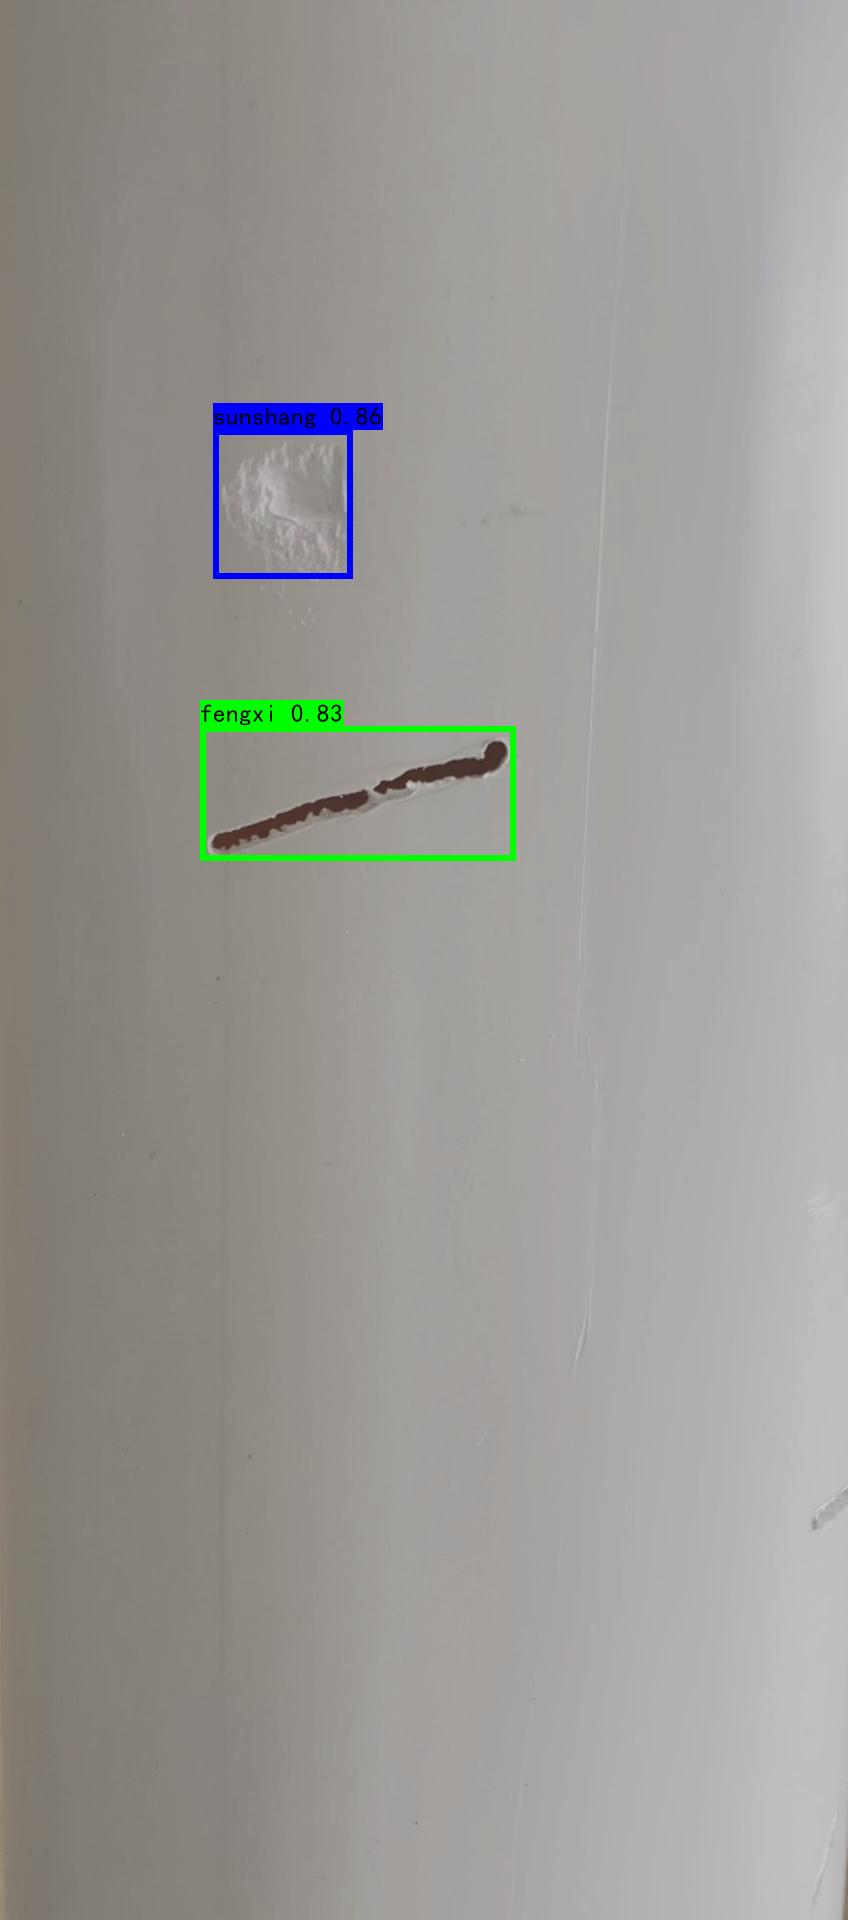fengxi: (197, 711, 524, 888)
sunshang: (208, 431, 360, 595)
